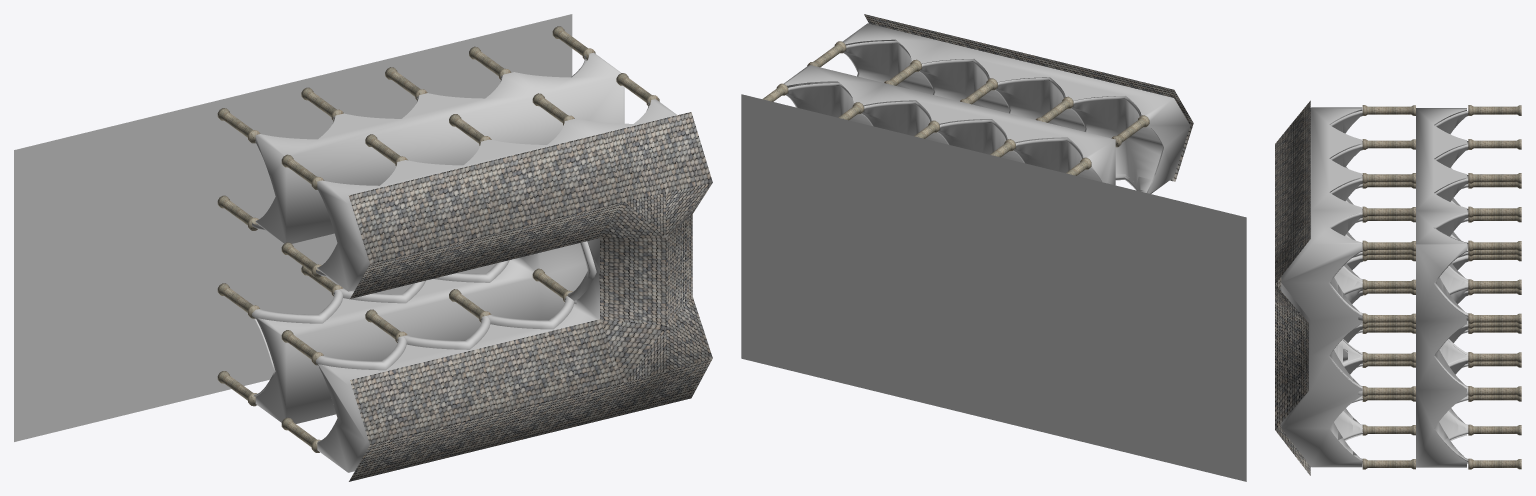
The model's file is td_courtyard.fbx.
3 views of the same model, side by side, from view 1: azimuth 30°, elevation 25°; view 2: azimuth 150°, elevation 25°; view 3: azimuth 270°, elevation 25° (orthographic). The views are drawn at different scales.
Visible parts, largest first — view 1: Floor, Roof, Structure, Columns, Arch_2, Arch; view 2: Floor, Structure, Arch_2, Arch, Columns, Roof; view 3: Structure, Columns, Roof, Arch, Arch_2.
Boxes of the visible parts, <box> form: Floor: <box>14,14,572,441</box>; Roof: <box>348,112,712,481</box>; Structure: <box>255,52,677,472</box>; Columns: <box>217,26,659,452</box>; Arch_2: <box>316,101,649,442</box>; Arch: <box>252,55,586,396</box>; Floor: <box>741,94,1246,481</box>; Structure: <box>784,23,1190,193</box>; Arch_2: <box>843,40,1162,192</box>; Arch: <box>785,83,1101,181</box>; Columns: <box>762,41,1149,175</box>; Roof: <box>864,14,1193,181</box>; Structure: <box>1281,107,1466,467</box>; Columns: <box>1362,105,1521,469</box>; Roof: <box>1275,100,1310,475</box>; Arch: <box>1434,111,1468,463</box>; Arch_2: <box>1329,111,1362,463</box>.
Size of the model in its own units: 39.99 by 20 by 18.46.
